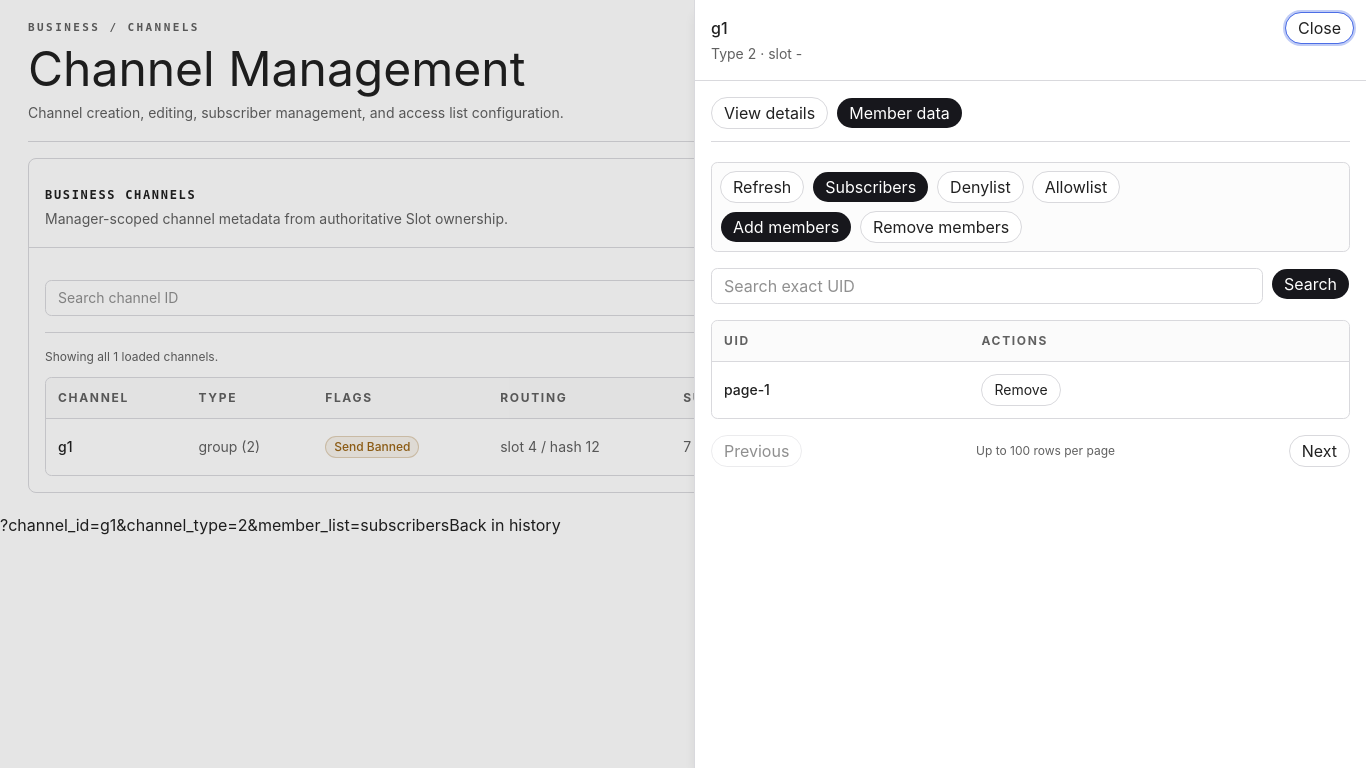
Test: uses current-page cursor navigation and preserves the page after a next read failure
The image size is (1366, 768).
Expected: the link "page-1" is shown, [724,381,770,398]
Click the button "Next".
click(1319, 451)  # box [1289,435,1350,467]
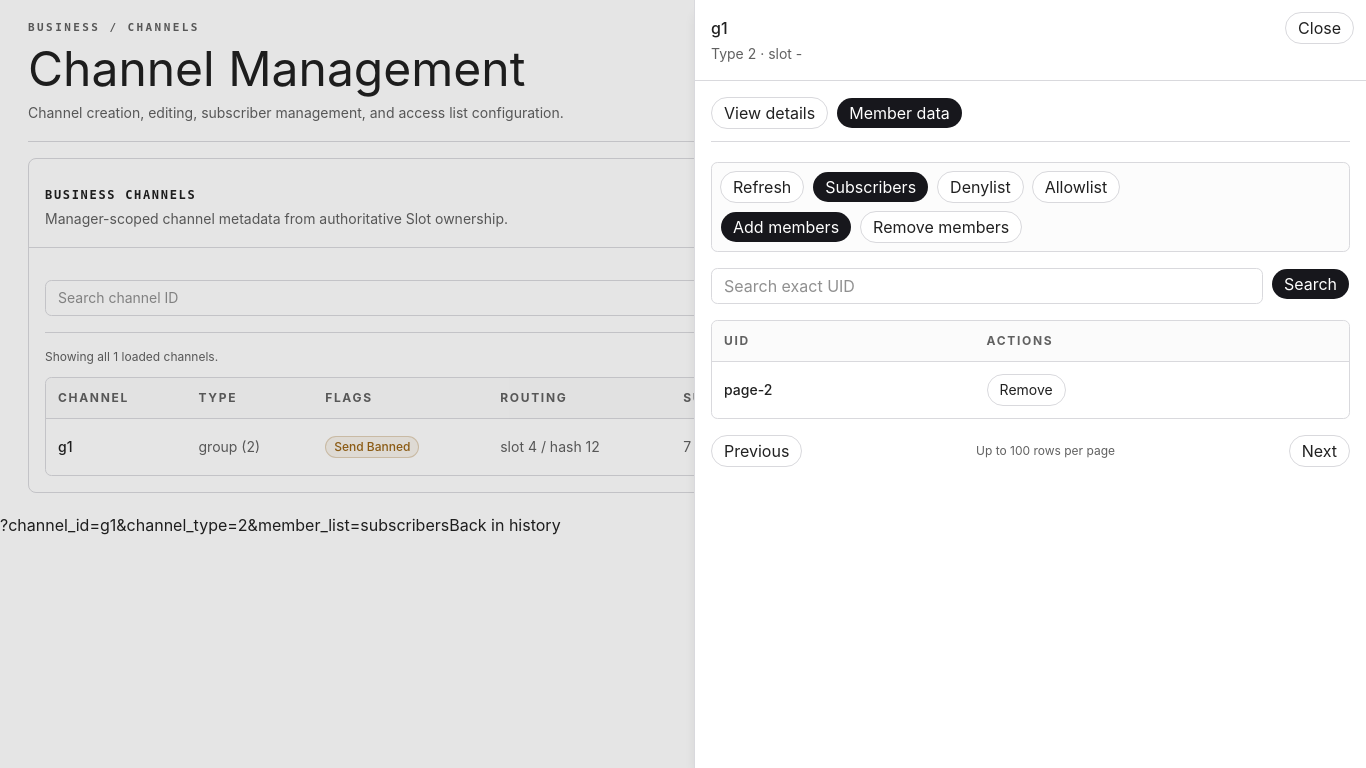
Now the link "page-2" is shown, box [724,381,772,398]
Now the link "page-1" is gone
Click the button "Next".
click(1319, 451)  # box [1289,435,1350,467]
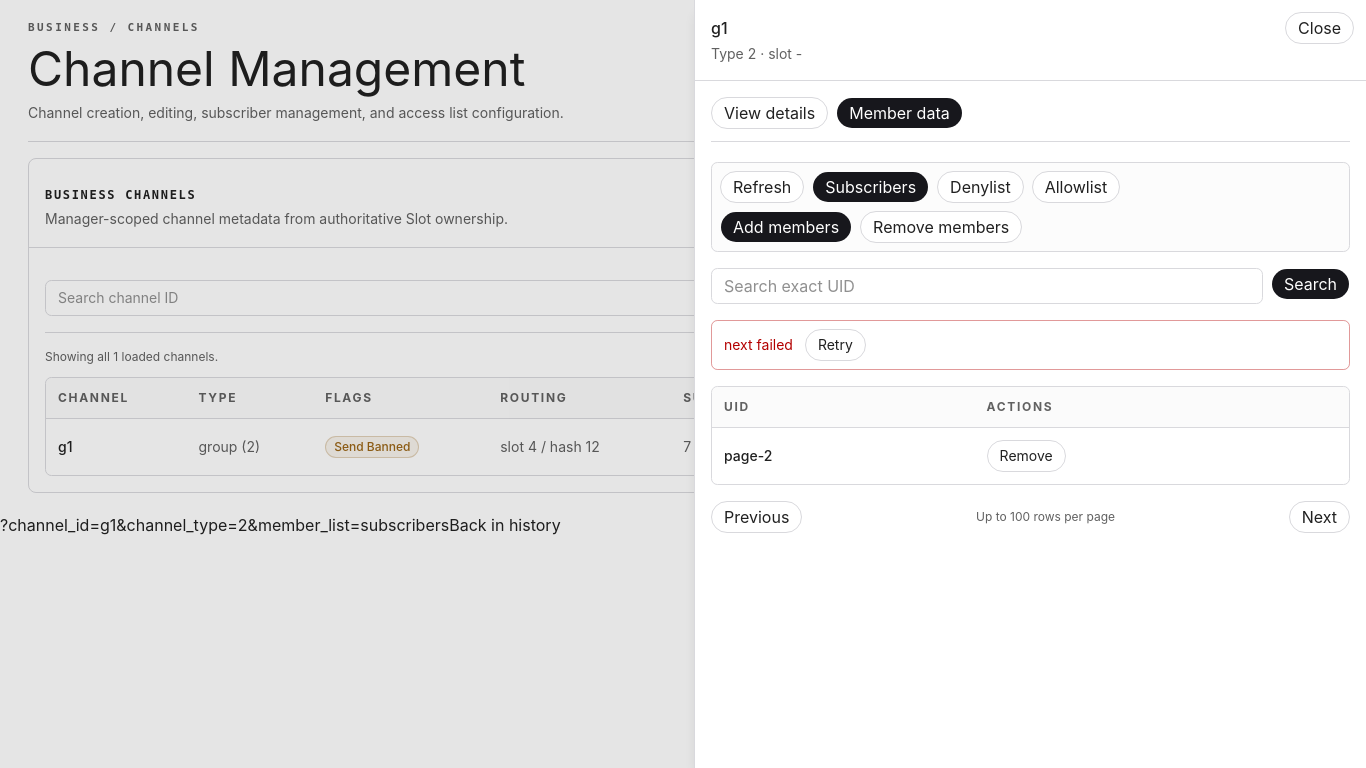
Now the link "page-2" is shown, box [724,447,772,464]
Now the text "next failed" is shown, box [724,336,793,353]
Click the button "Previous".
click(757, 517)  # box [711,501,802,533]
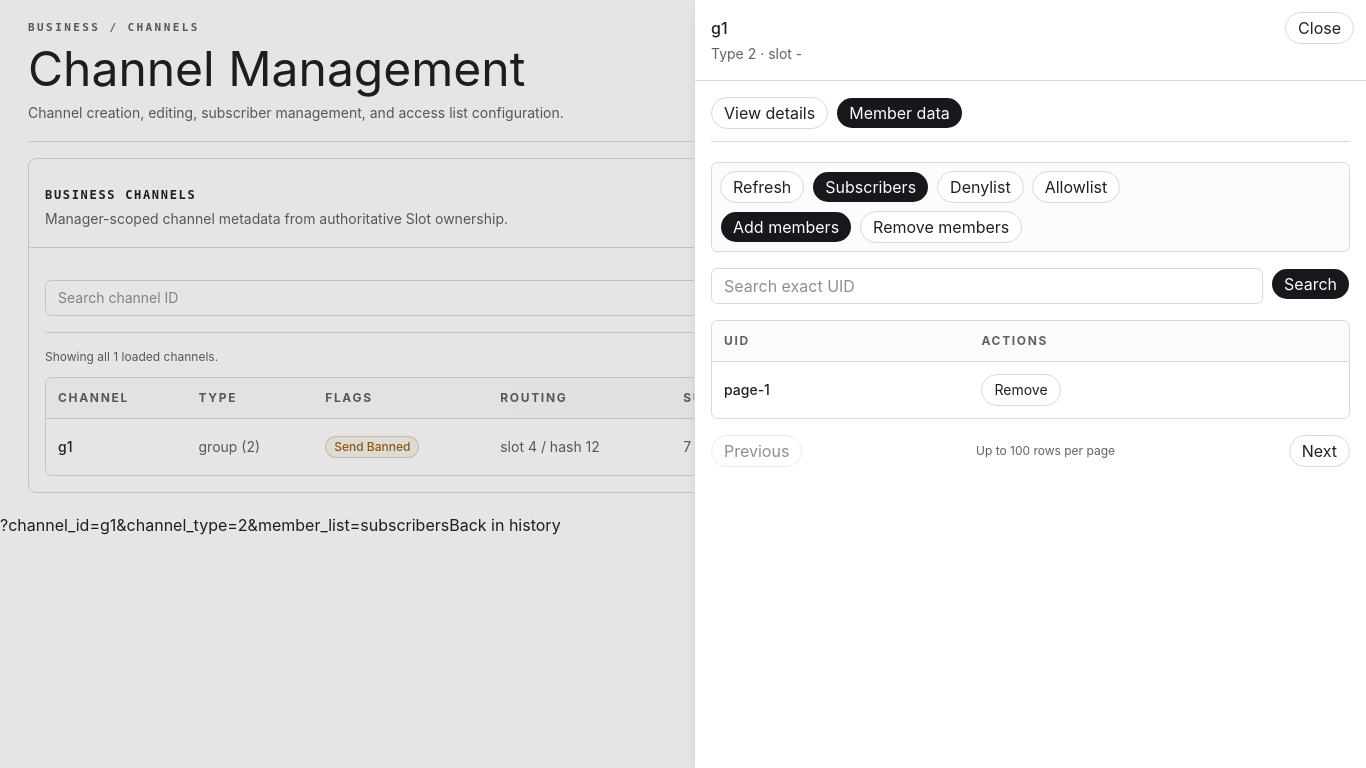
Now the link "page-1" is shown, box [724,381,770,398]
